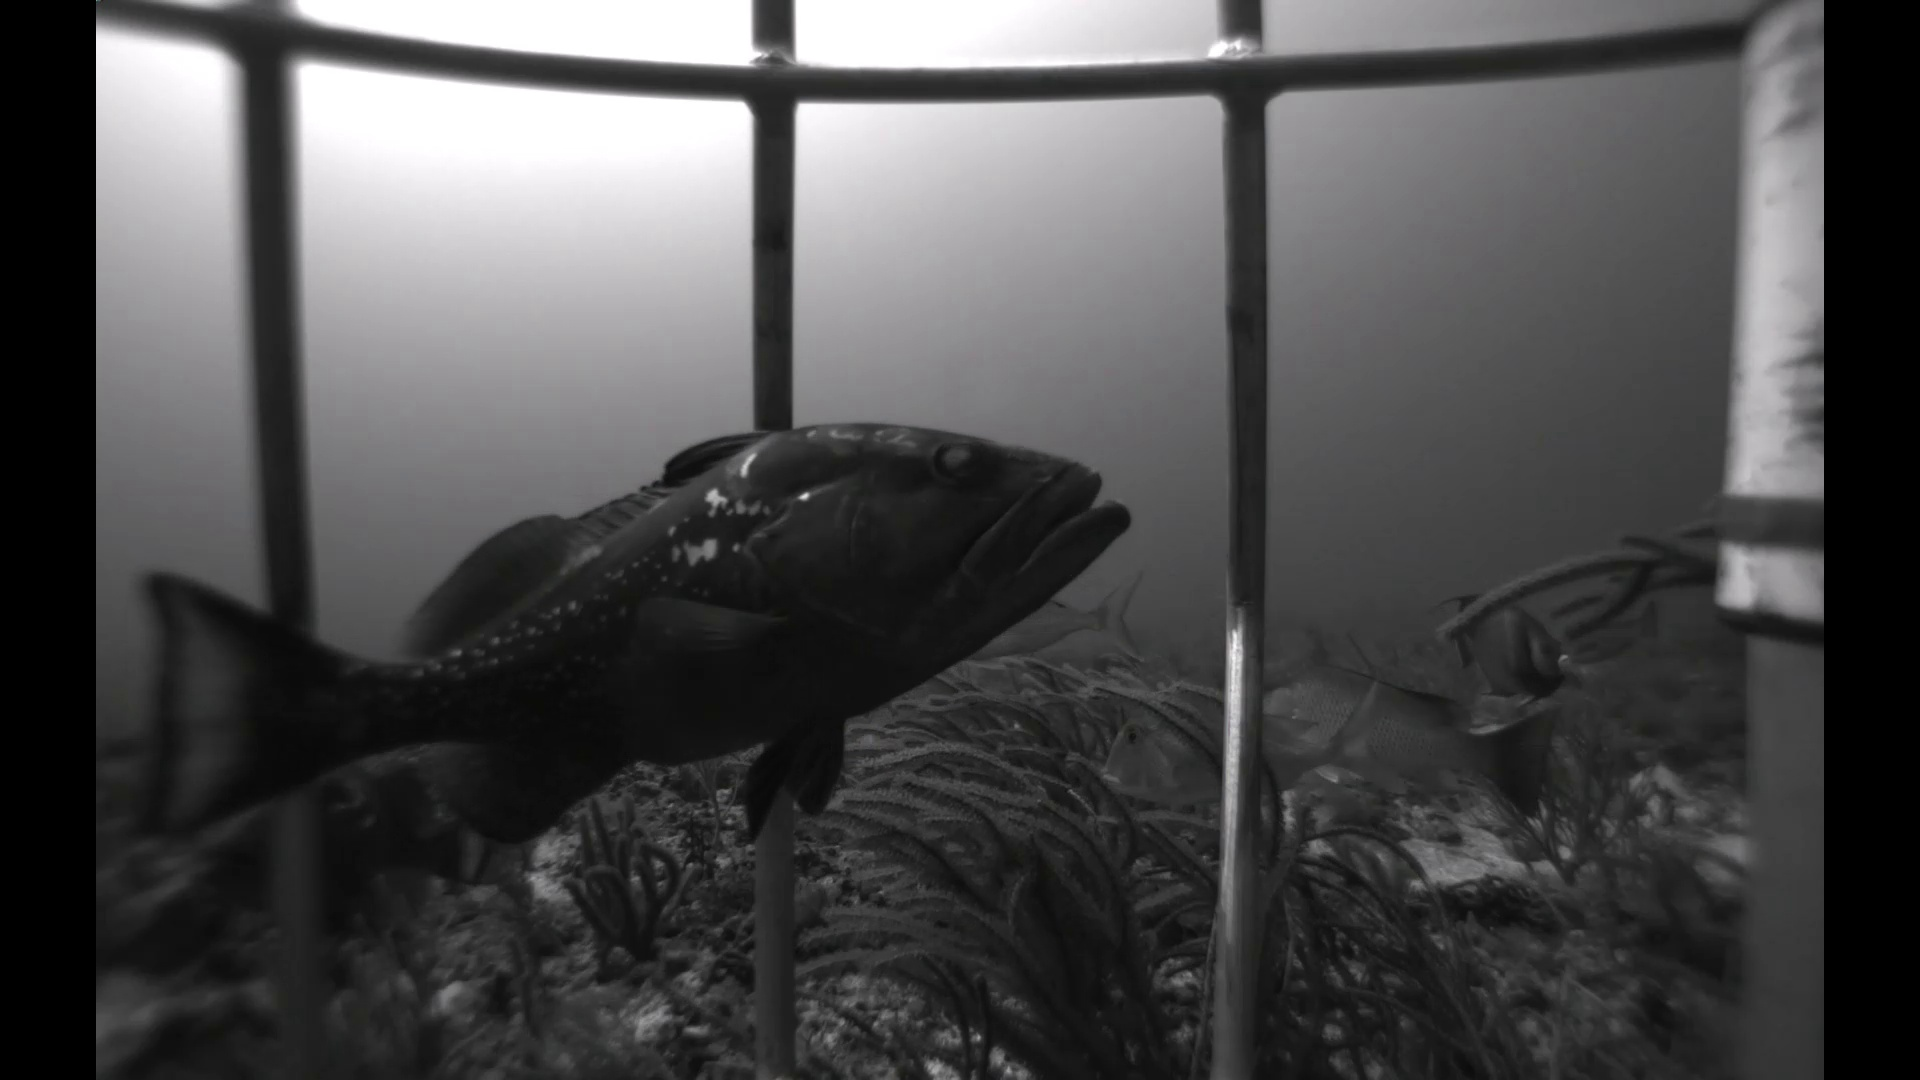CALAMUSNODOSUS-170210608: (1076, 655, 1416, 824)
EPINEPHELUSMORIO-170021211: (111, 407, 1146, 894), (189, 740, 514, 923)
LUTJANUSGRISEUS-170151109: (1254, 647, 1578, 827)
PAGRUSPAGRUS-170212302: (963, 564, 1159, 676)
POMACANTHUSARCUATUS-170290201: (1420, 574, 1586, 717)
